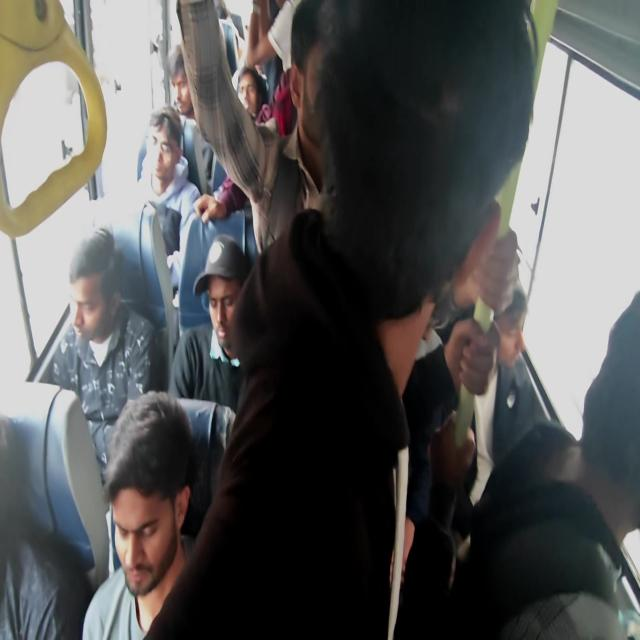person: (333, 22, 553, 325), (113, 414, 230, 631), (571, 322, 640, 640), (296, 8, 400, 214), (0, 429, 75, 588), (49, 234, 143, 340), (474, 256, 547, 387), (205, 230, 256, 352), (219, 68, 272, 136), (137, 111, 178, 175), (174, 61, 204, 110), (215, 0, 237, 20)
